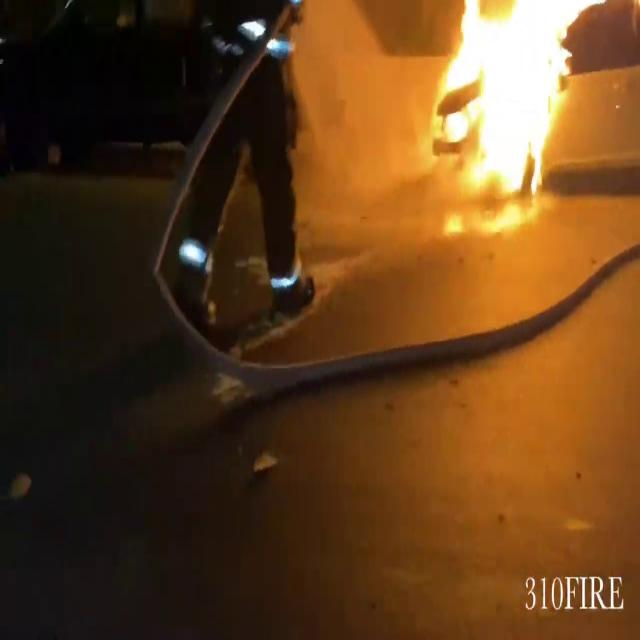Fire: (409, 0, 599, 219)
